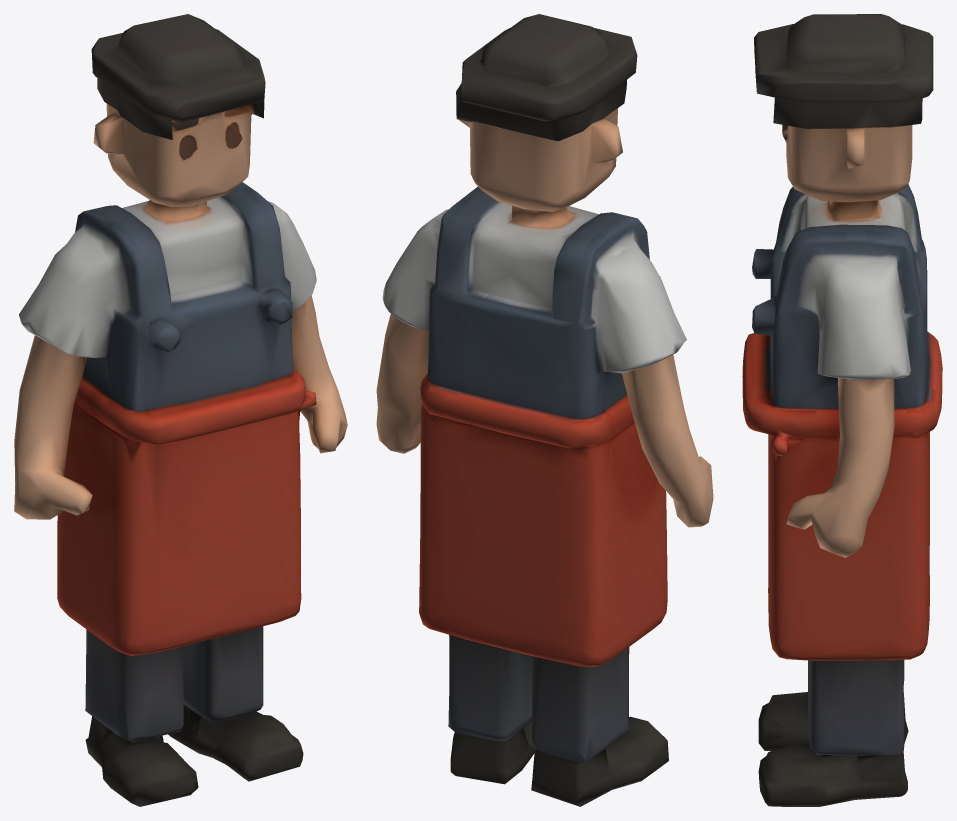
Rendered from market vendor 3d model.glb.
The picture shows the model from 3 angles, left to right: view 1: azimuth 30°, elevation 25°; view 2: azimuth 150°, elevation 25°; view 3: azimuth 270°, elevation 25°; orthographic projection.
Visible parts, largest first — view 1: tripo_node_ed96a761-2b50-4ae2-ba45-65f4840be1a2; view 2: tripo_node_ed96a761-2b50-4ae2-ba45-65f4840be1a2; view 3: tripo_node_ed96a761-2b50-4ae2-ba45-65f4840be1a2.
Part boxes in pixels (bbox=[...]): tripo_node_ed96a761-2b50-4ae2-ba45-65f4840be1a2: bbox=[14, 14, 347, 806]; tripo_node_ed96a761-2b50-4ae2-ba45-65f4840be1a2: bbox=[376, 14, 713, 806]; tripo_node_ed96a761-2b50-4ae2-ba45-65f4840be1a2: bbox=[742, 14, 942, 806].
Bounding box in the file's own units: 0.461 × 0.977 × 0.2402.
1 material, 1 textured.
